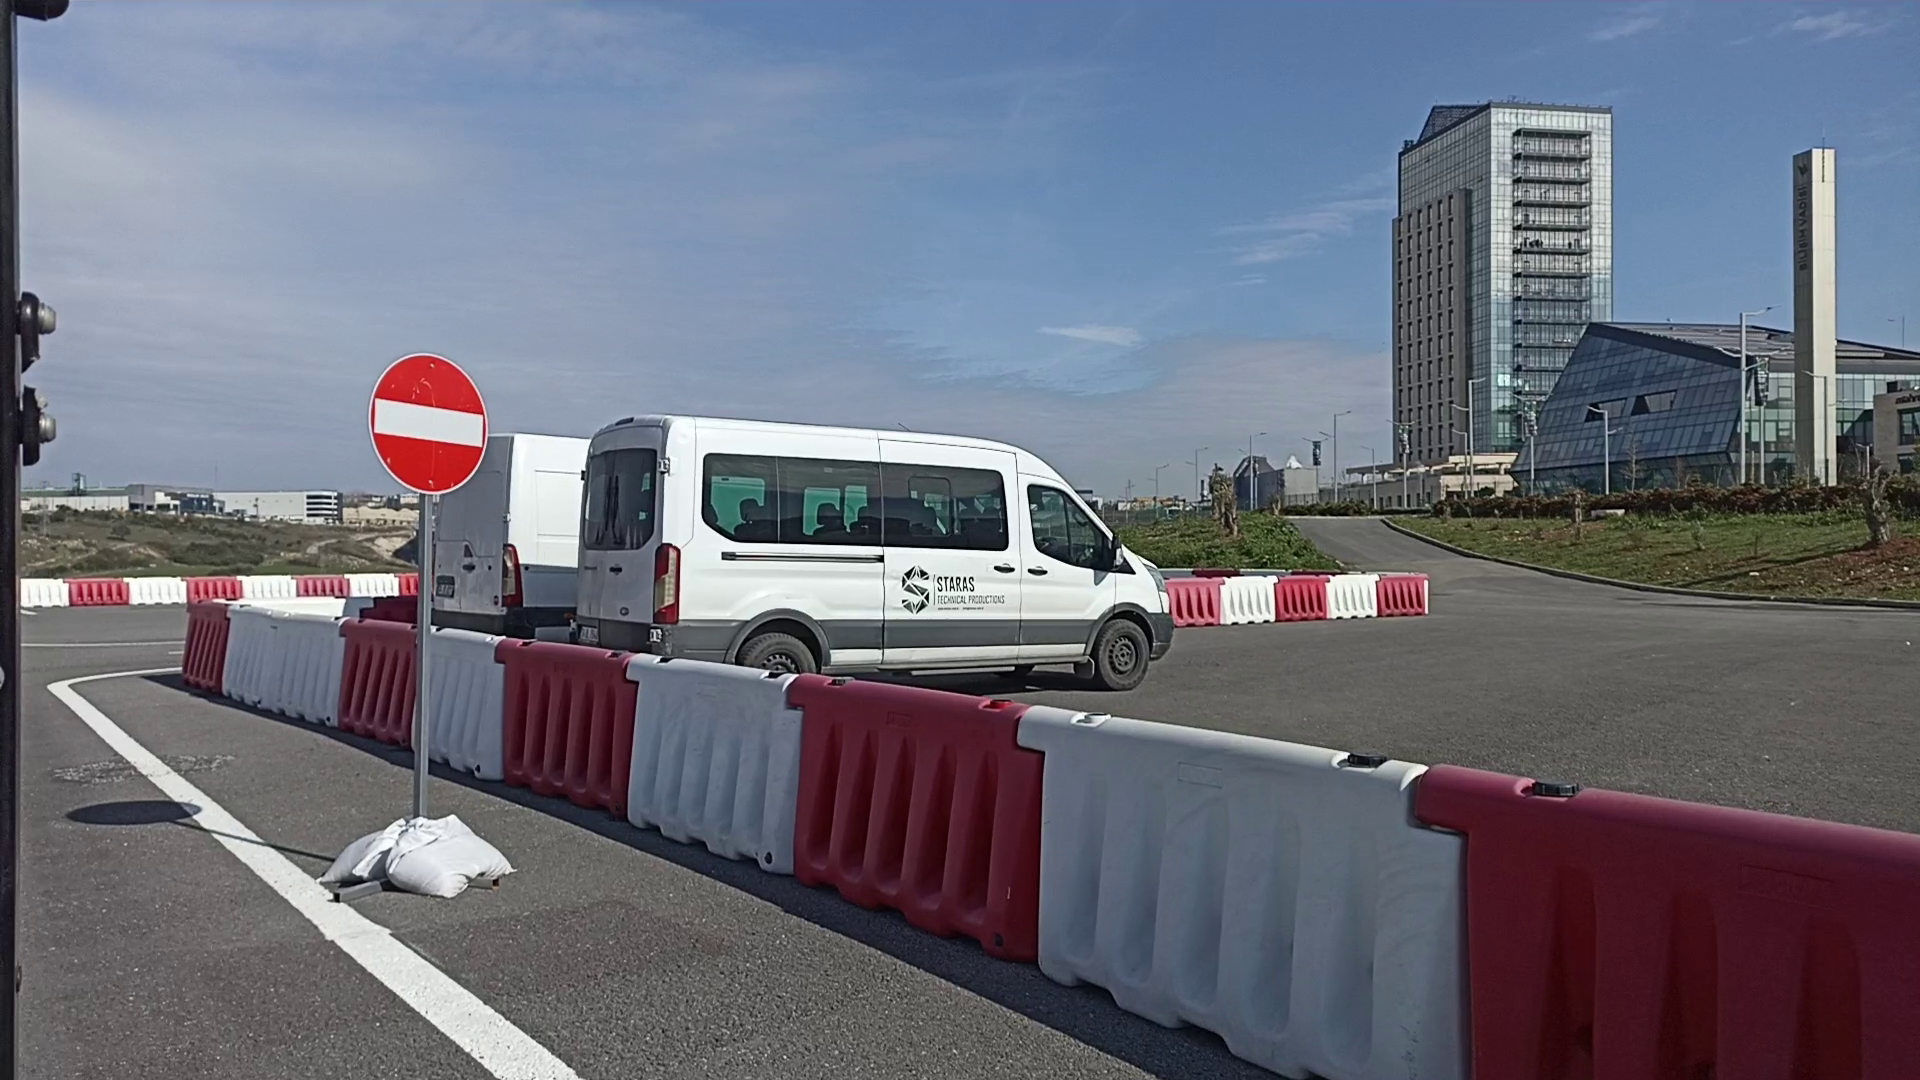noentryway: (367, 351, 491, 497)
